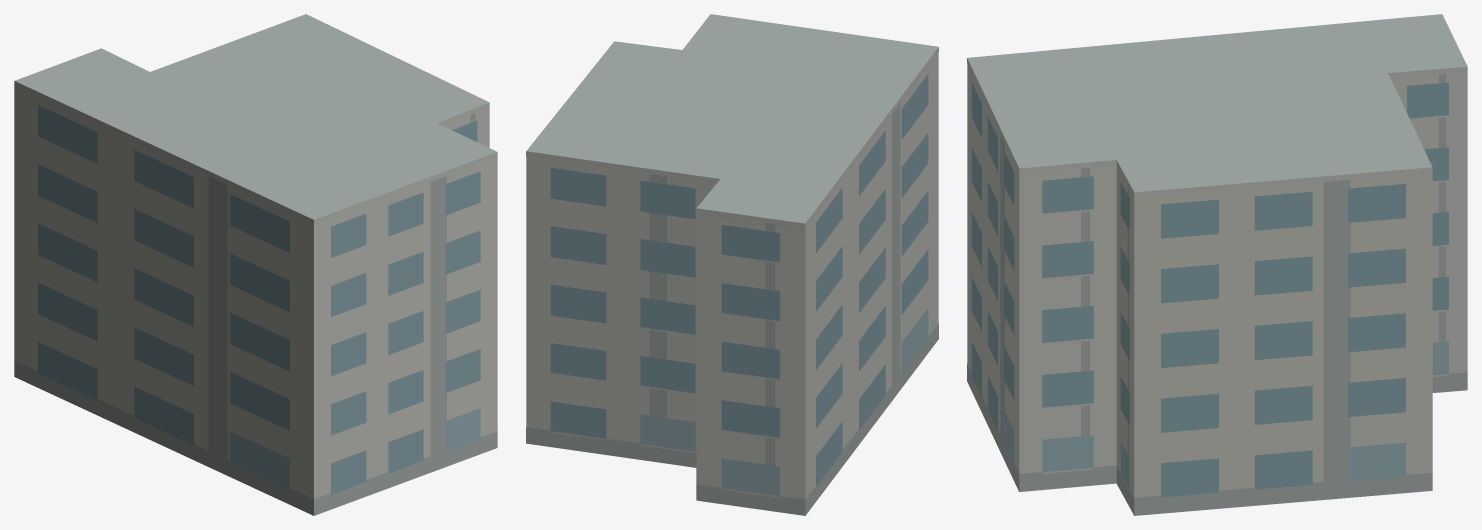
File: survey-upis-32811426.glb
The picture shows the model from 3 angles, left to right: view 1: azimuth 30°, elevation 25°; view 2: azimuth 150°, elevation 25°; view 3: azimuth 270°, elevation 25°; orthographic projection. The views are drawn at different scales.
Parts seen in each view (by area): view 1: survey-upis-32811426.tmp; view 2: survey-upis-32811426.tmp; view 3: survey-upis-32811426.tmp.
Boxes of the visible parts, x1=… form: survey-upis-32811426.tmp: x1=14, y1=14, x2=497, y2=515; survey-upis-32811426.tmp: x1=526, y1=14, x2=938, y2=515; survey-upis-32811426.tmp: x1=967, y1=14, x2=1467, y2=515.
Size of the model in its own units: 16.56 by 14 by 19.64.
